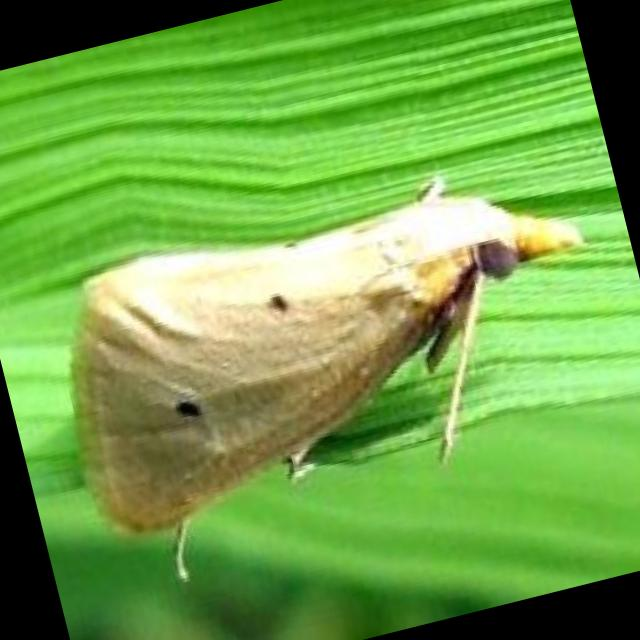stem-borer: (30, 136, 640, 604)
